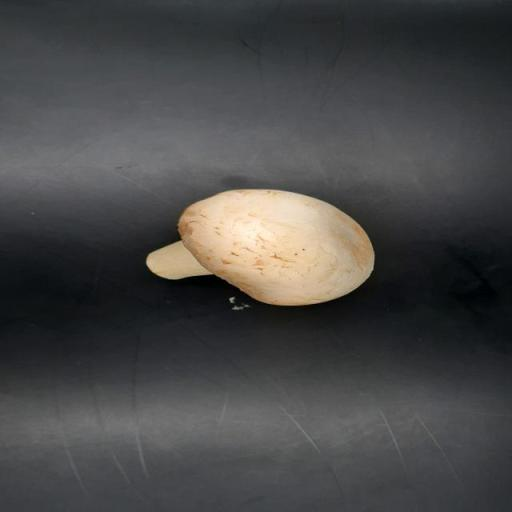Button Mushroom: (142, 164, 387, 327)
